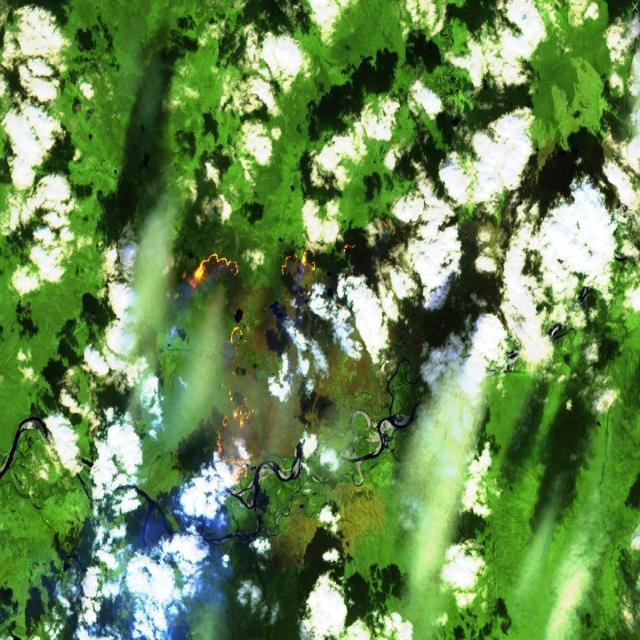fire: (170, 222, 403, 491)
